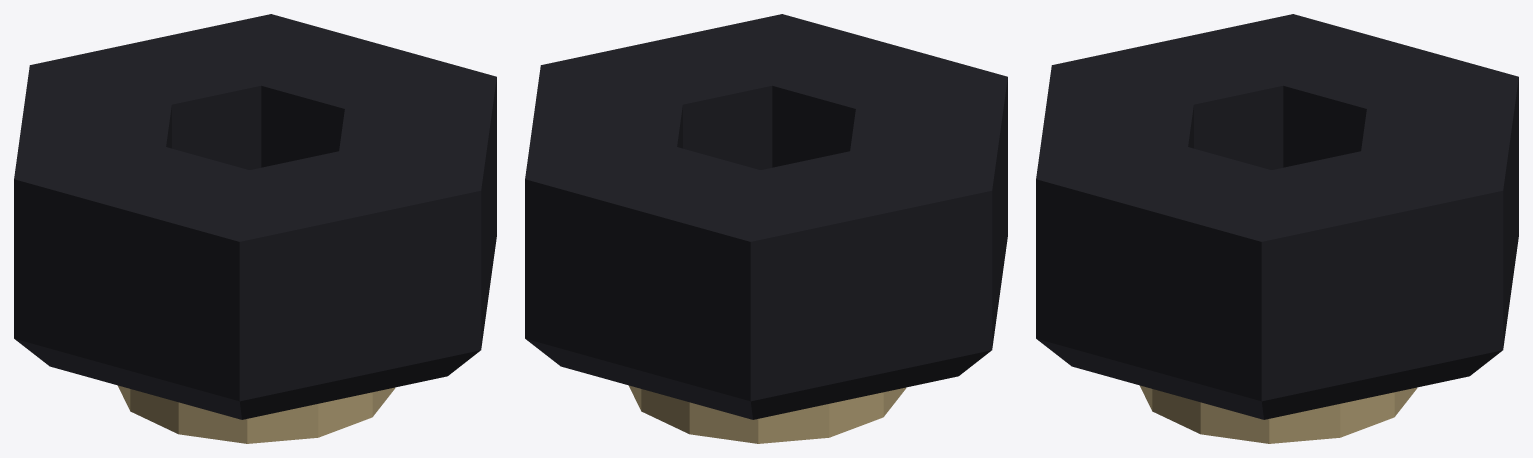
The model's file is front_right_nut.obj.
The picture shows the model from 3 angles, left to right: view 1: azimuth 30°, elevation 25°; view 2: azimuth 150°, elevation 25°; view 3: azimuth 270°, elevation 25°; orthographic projection.
Size of the model in its own units: 0.00552 by 0.0029 by 0.00494.
Materials: 1 (1 with a texture image).
